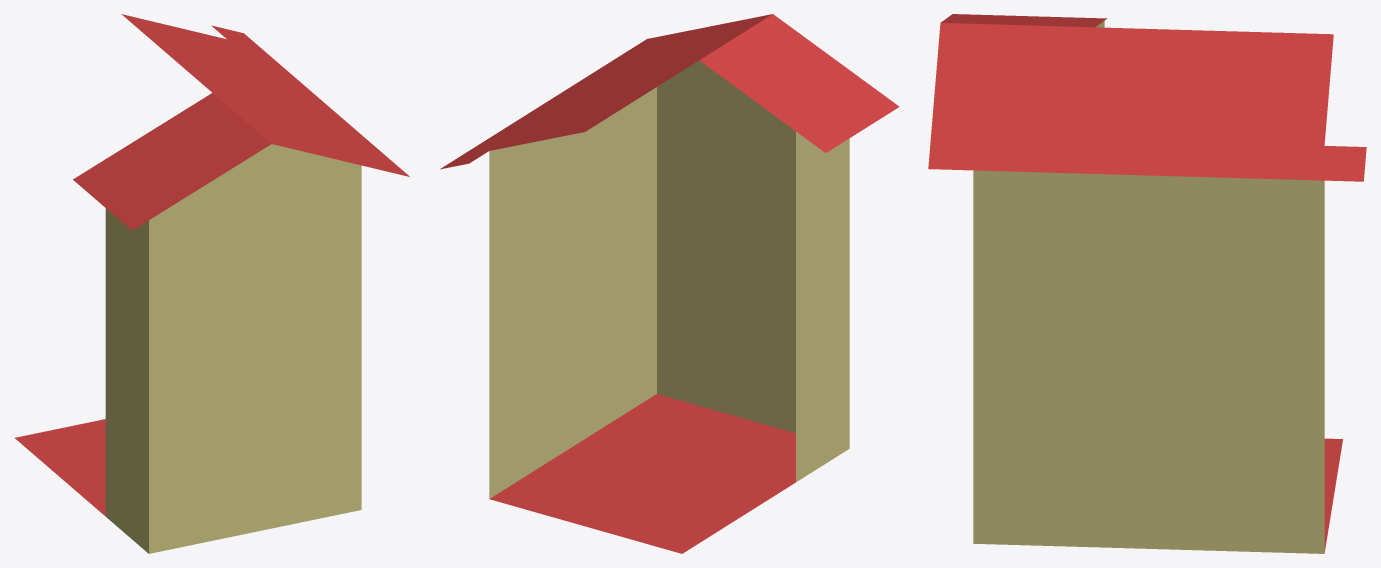
3 views of the same model, side by side, from view 1: azimuth 30°, elevation 25°; view 2: azimuth 150°, elevation 25°; view 3: azimuth 270°, elevation 25° (orthographic). The views are drawn at different scales.
Size of the model in its own units: 6.85 by 7.79 by 9.06.
